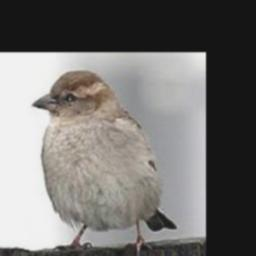Sparrow: (32, 69, 178, 256)
